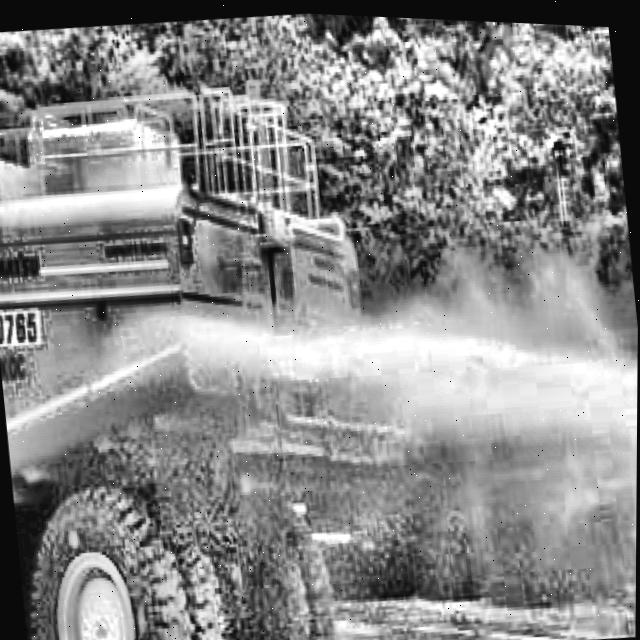dump_truck: (0, 32, 410, 640)
